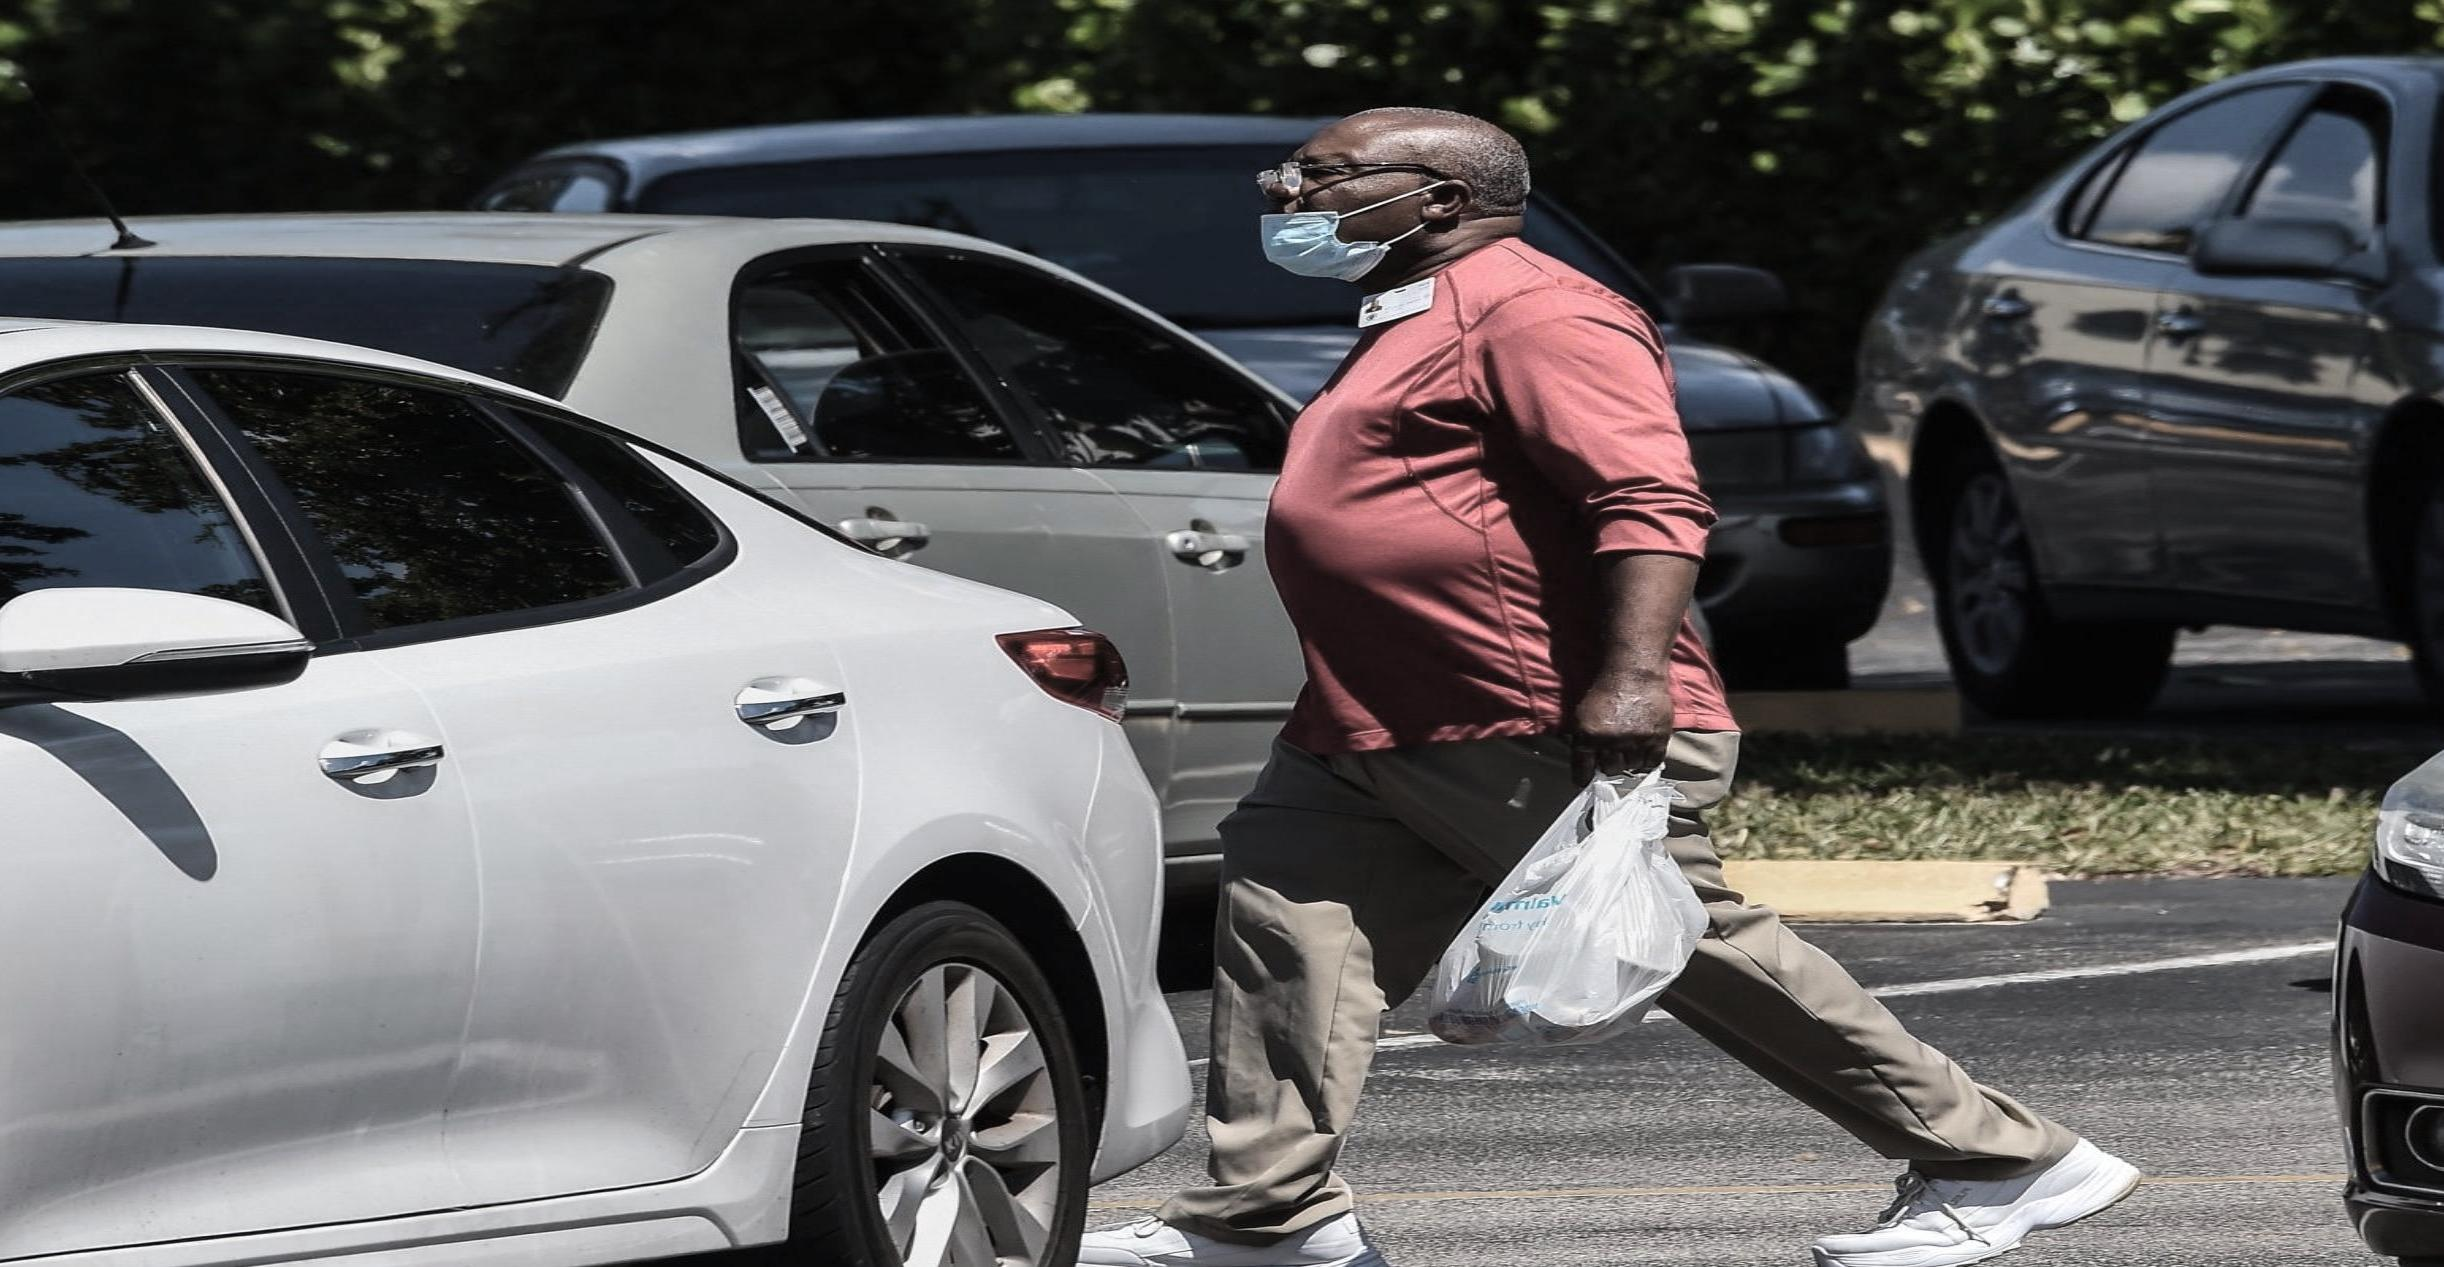mask_weared_incorrect: (1201, 98, 1496, 318), (1242, 106, 1549, 295)
